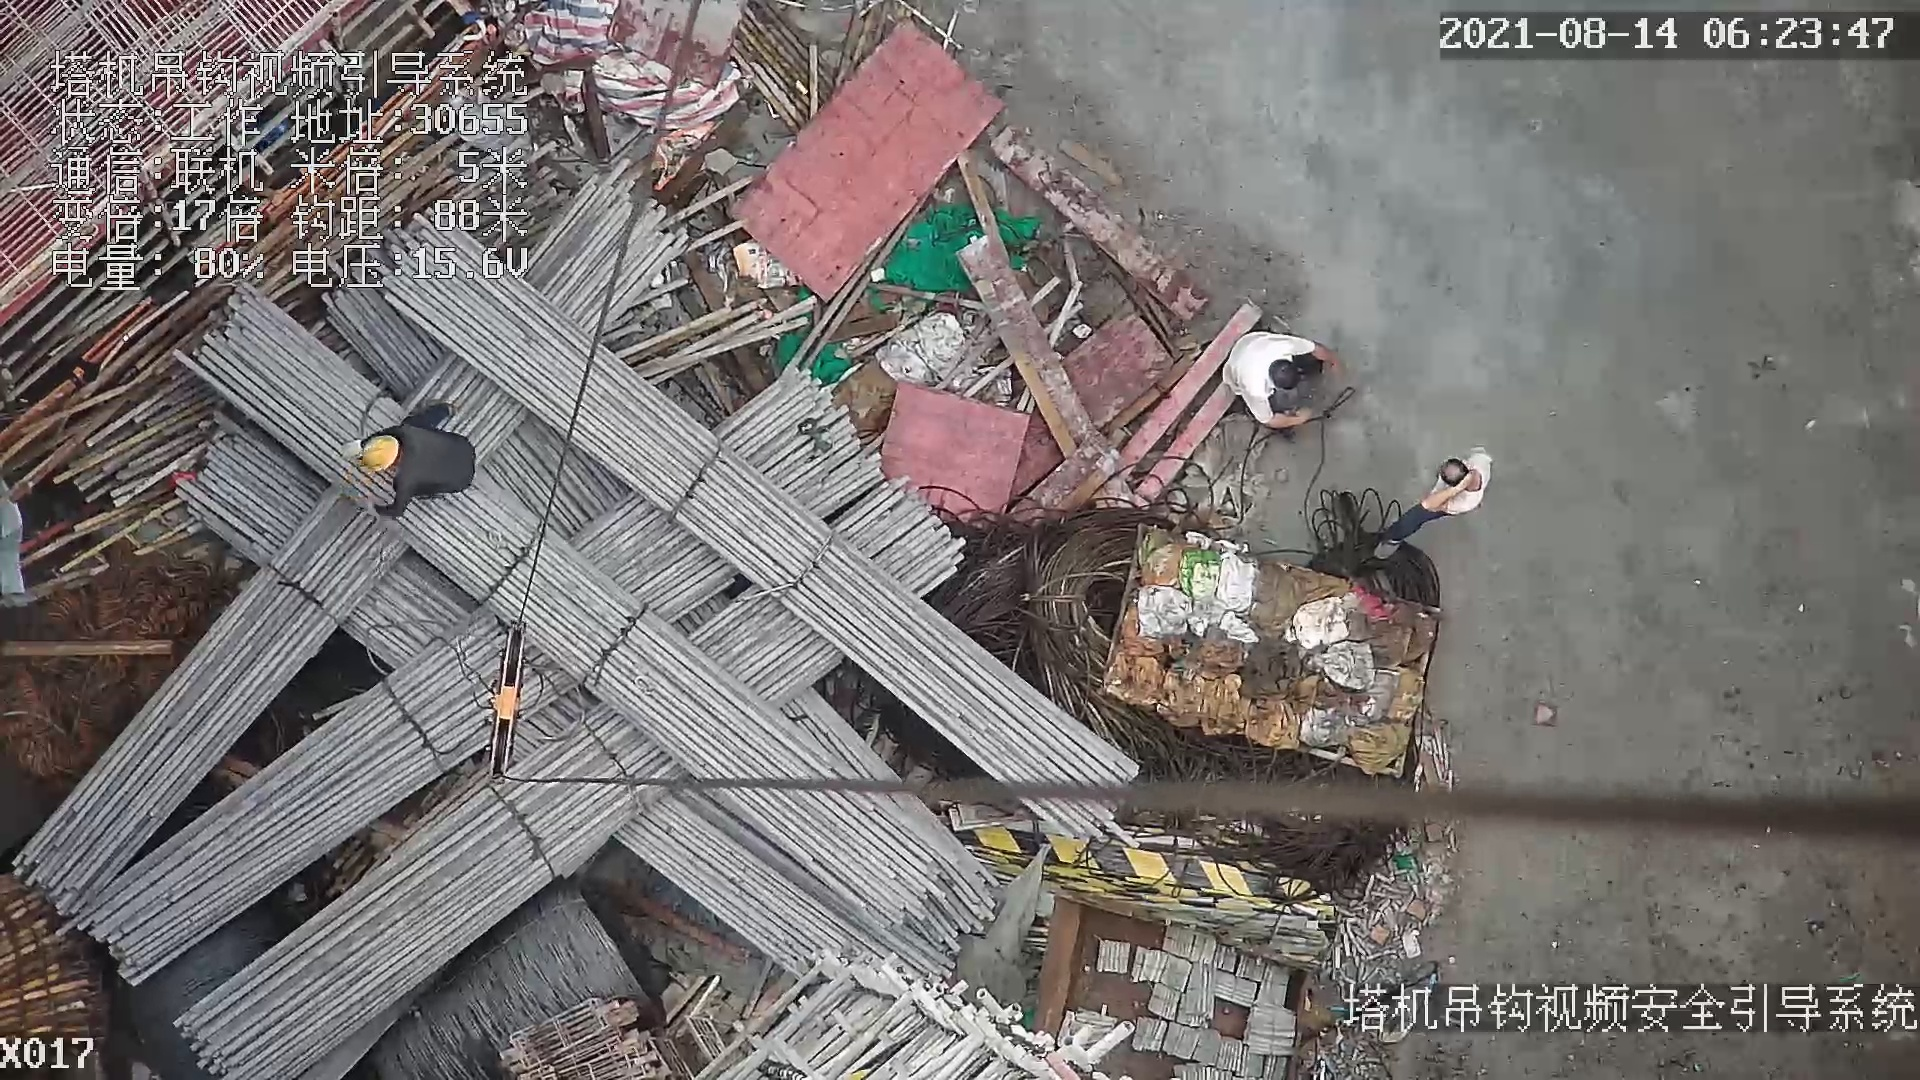helmet: (363, 435, 399, 471)
hook: (481, 612, 535, 789)
person: (362, 401, 479, 515), (1379, 449, 1496, 562), (1228, 331, 1346, 437)
rebar: (167, 281, 945, 920), (381, 279, 1141, 844), (169, 702, 690, 1080), (75, 609, 584, 993), (17, 486, 409, 916)
wood: (1, 873, 106, 1034)
